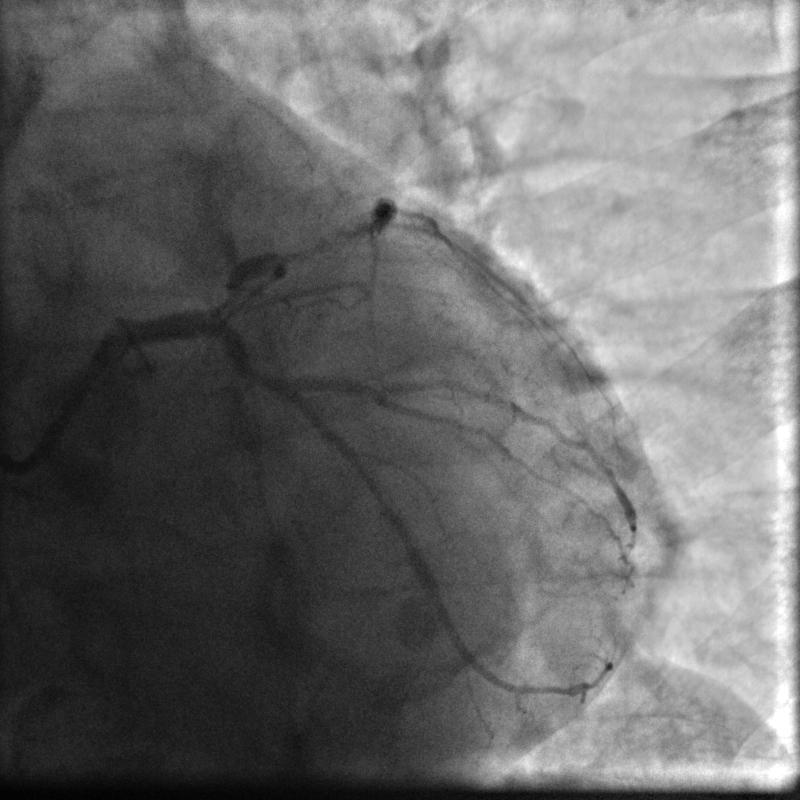Stenosis: (201, 269, 254, 310)
